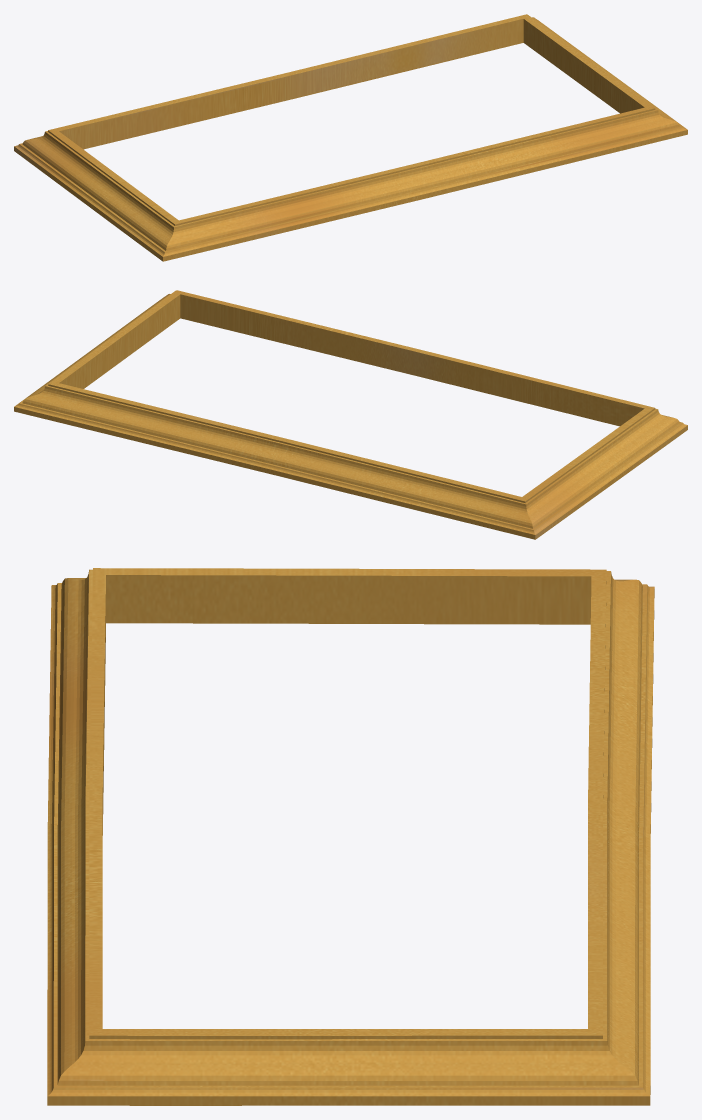
File: marco2.fbx
3 views of the same model, one above another, from view 1: azimuth 30°, elevation 25°; view 2: azimuth 150°, elevation 25°; view 3: azimuth 270°, elevation 25° (orthographic). The views are drawn at different scales.
Visible parts, largest first — view 1: Cube; view 2: Cube; view 3: Cube.
Boxes of the visible parts, <box> form: Cube: <box>14,14,687,261</box>; Cube: <box>14,290,687,539</box>; Cube: <box>47,568,654,1105</box>.
Bounding box in the file's own units: 120 × 5.29 × 60.21.
Materials: 1 (1 with a texture image).
